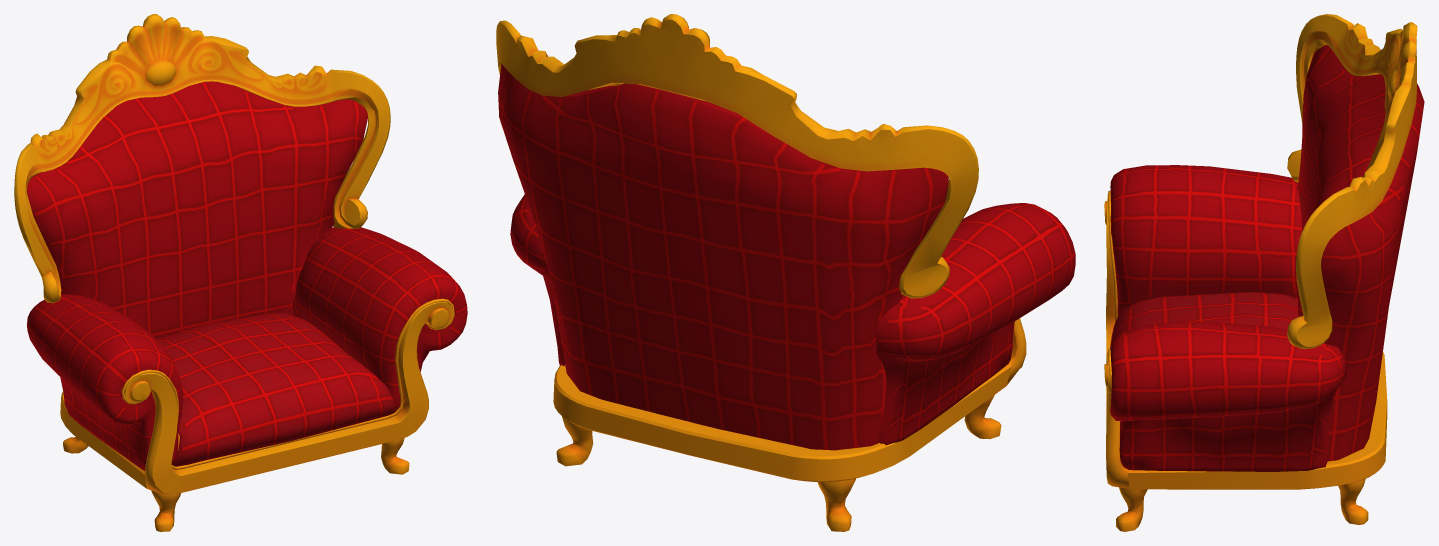
The model's file is Wealth_ng_chair.FBX.
3 views of the same model, side by side, from view 1: azimuth 30°, elevation 25°; view 2: azimuth 150°, elevation 25°; view 3: azimuth 270°, elevation 25° (orthographic). The views are drawn at different scales.
Parts seen in each view (by area): view 1: Wealth_ng_chair; view 2: Wealth_ng_chair; view 3: Wealth_ng_chair.
Part boxes in pixels (x1,y1,x2,y2): Wealth_ng_chair: (14, 14, 467, 531); Wealth_ng_chair: (496, 14, 1075, 531); Wealth_ng_chair: (1104, 14, 1424, 531).
Bounding box in the file's own units: 139 × 139 × 92.06.
1 material, 1 textured.
